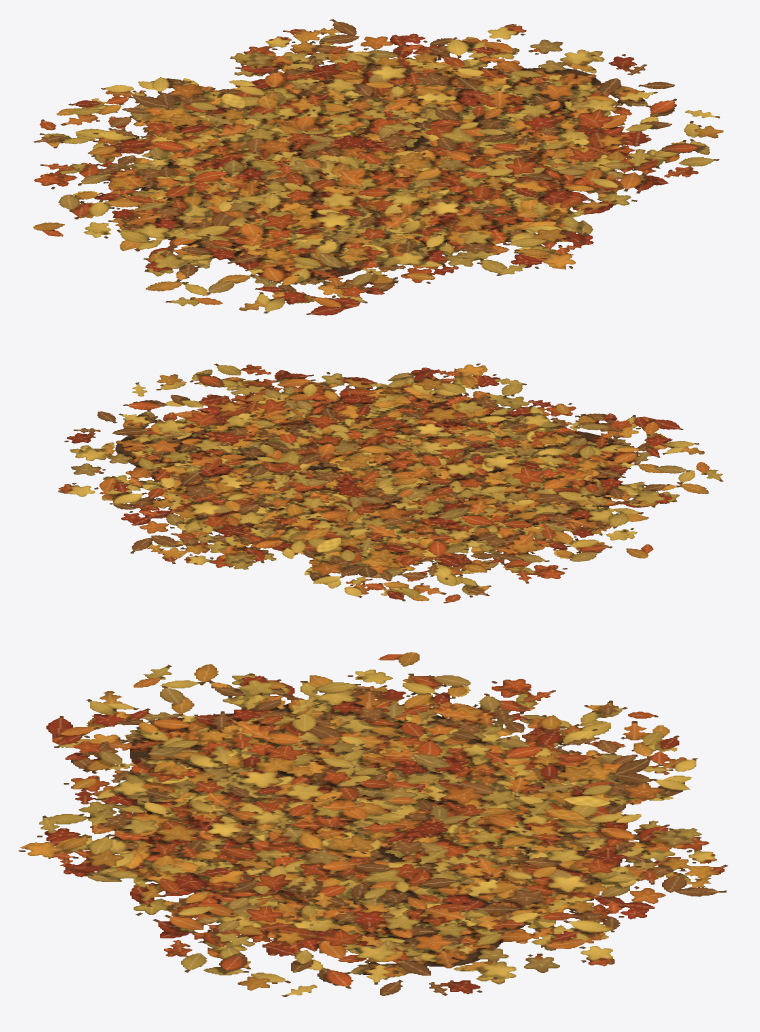
Rendered from fm_leaf_litter_patch_large.glb.
The picture shows the model from 3 angles, top to bottom: view 1: azimuth 30°, elevation 25°; view 2: azimuth 150°, elevation 25°; view 3: azimuth 270°, elevation 25°; orthographic projection. The views are drawn at different scales.
Visible parts, largest first — view 1: fm_leaf_litter_patch_large; view 2: fm_leaf_litter_patch_large; view 3: fm_leaf_litter_patch_large.
Boxes of the visible parts, x1,y1,x2,y2 form: fm_leaf_litter_patch_large: (33,19,723,315); fm_leaf_litter_patch_large: (58,363,723,603); fm_leaf_litter_patch_large: (18,652,727,996).
Bounding box in the file's own units: 2.36 × 0.0279 × 1.97.
2 materials, 2 textured.
